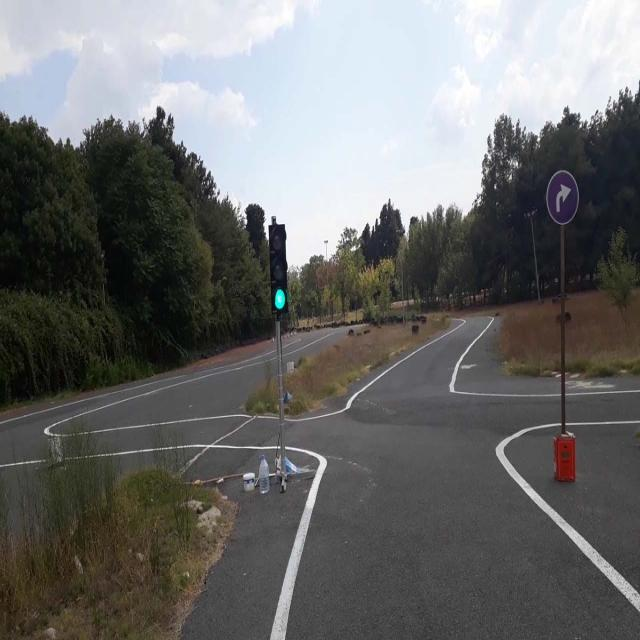sag: (547, 173, 578, 223)
yesil: (270, 221, 288, 312)
